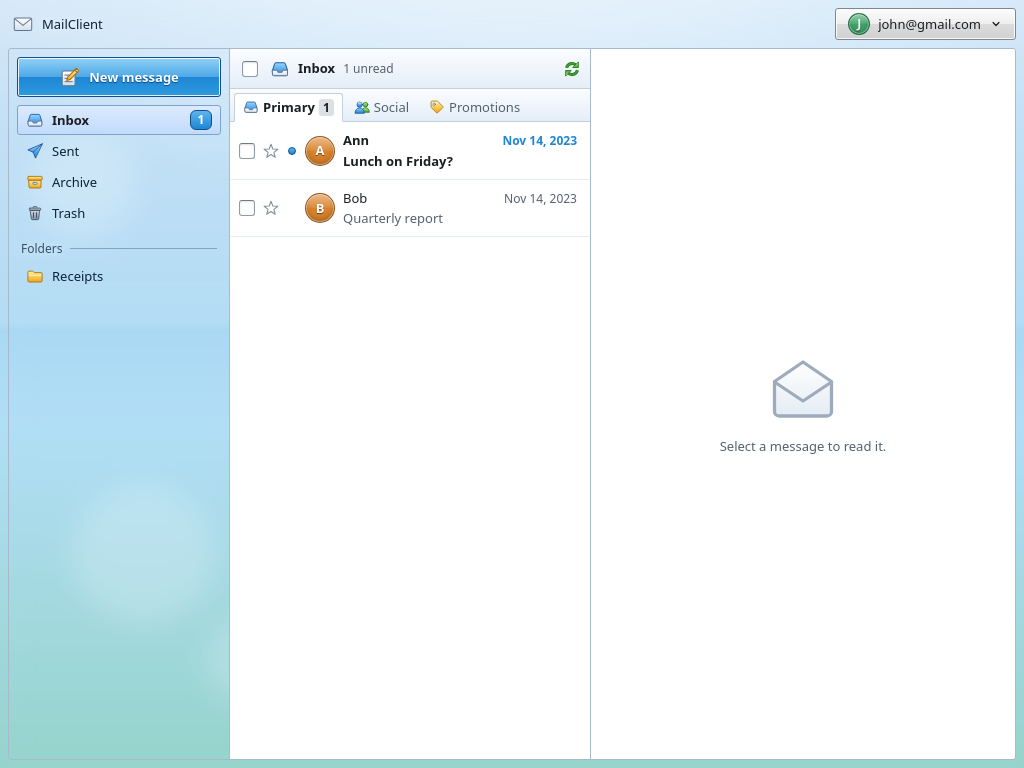
Test case: Workspace › keeps the composer open and explains when sending fails
Click the button "New message": [119, 77] box [17, 57, 221, 97]
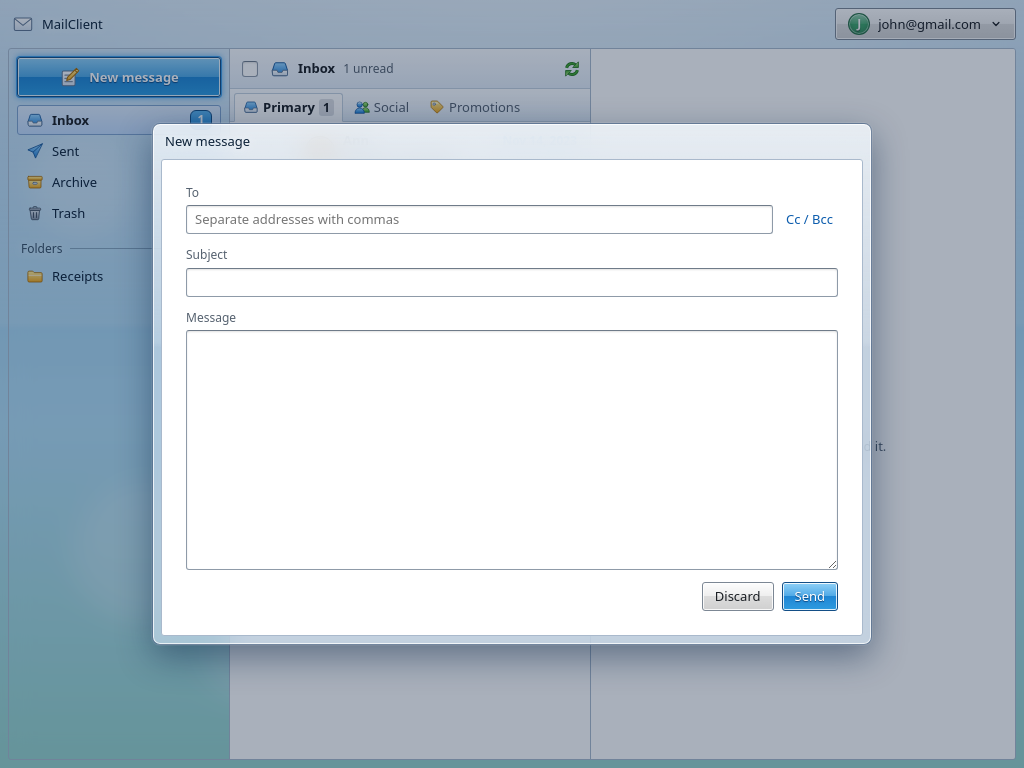
In the field labelled "Subject": [512, 282] box [186, 268, 838, 296], type "Nobody"
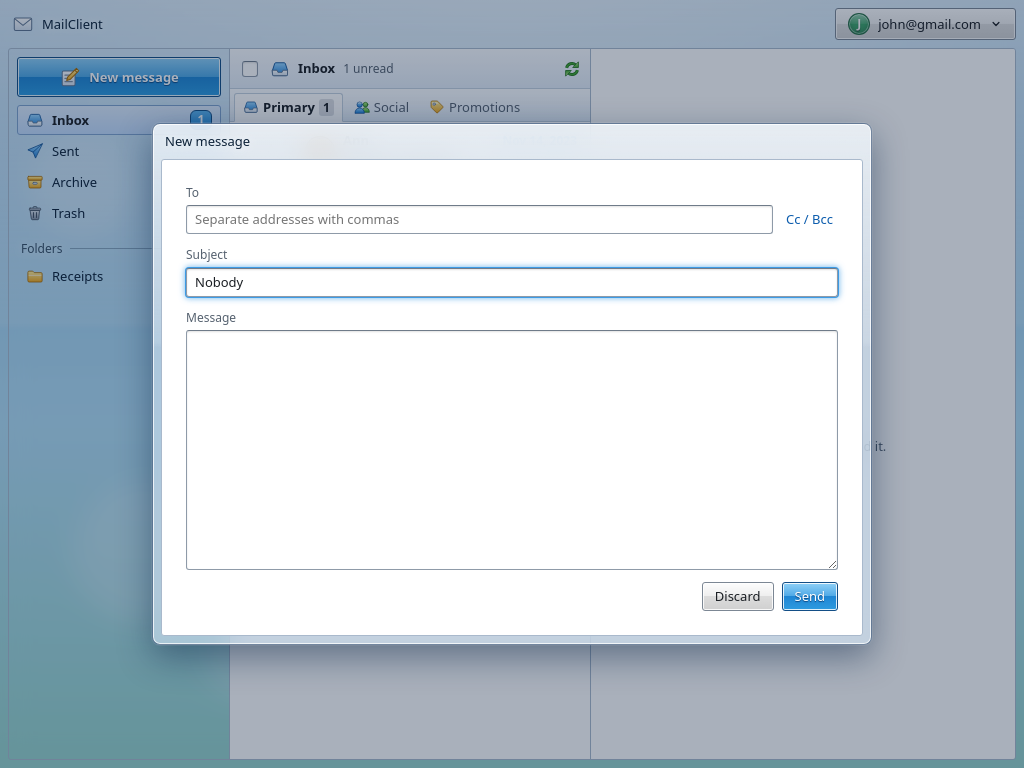
Click the button "Send": [810, 596] box [782, 582, 838, 611]
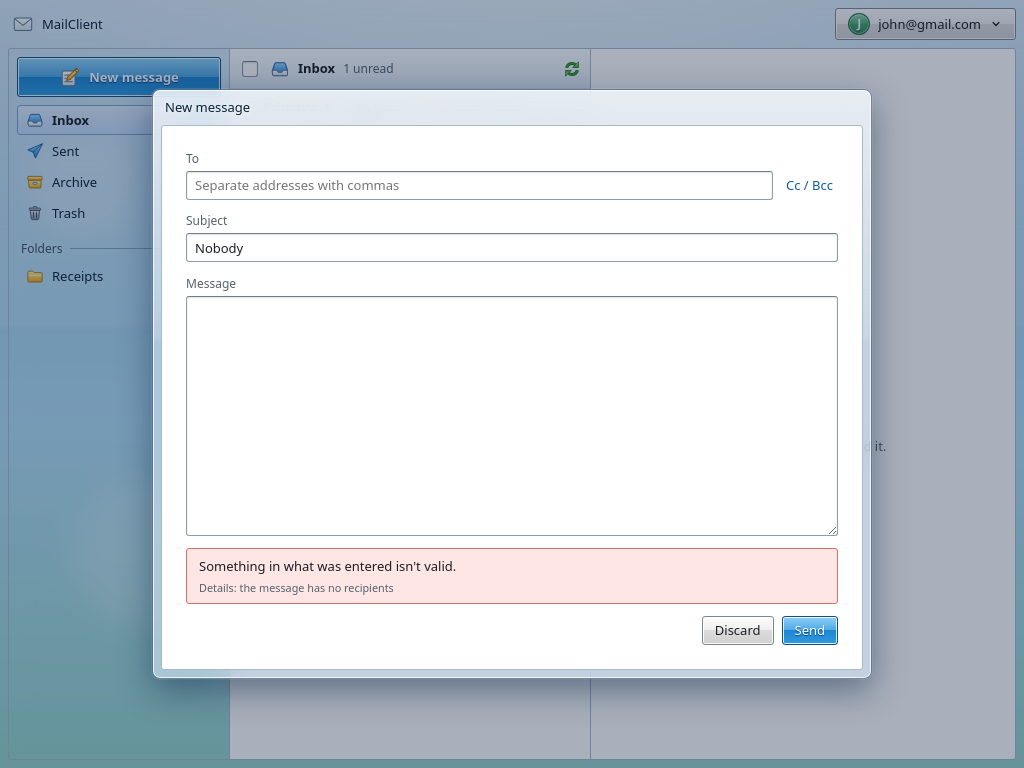
Check: the message shows "the message has no recipients", box [199, 580, 394, 594]
